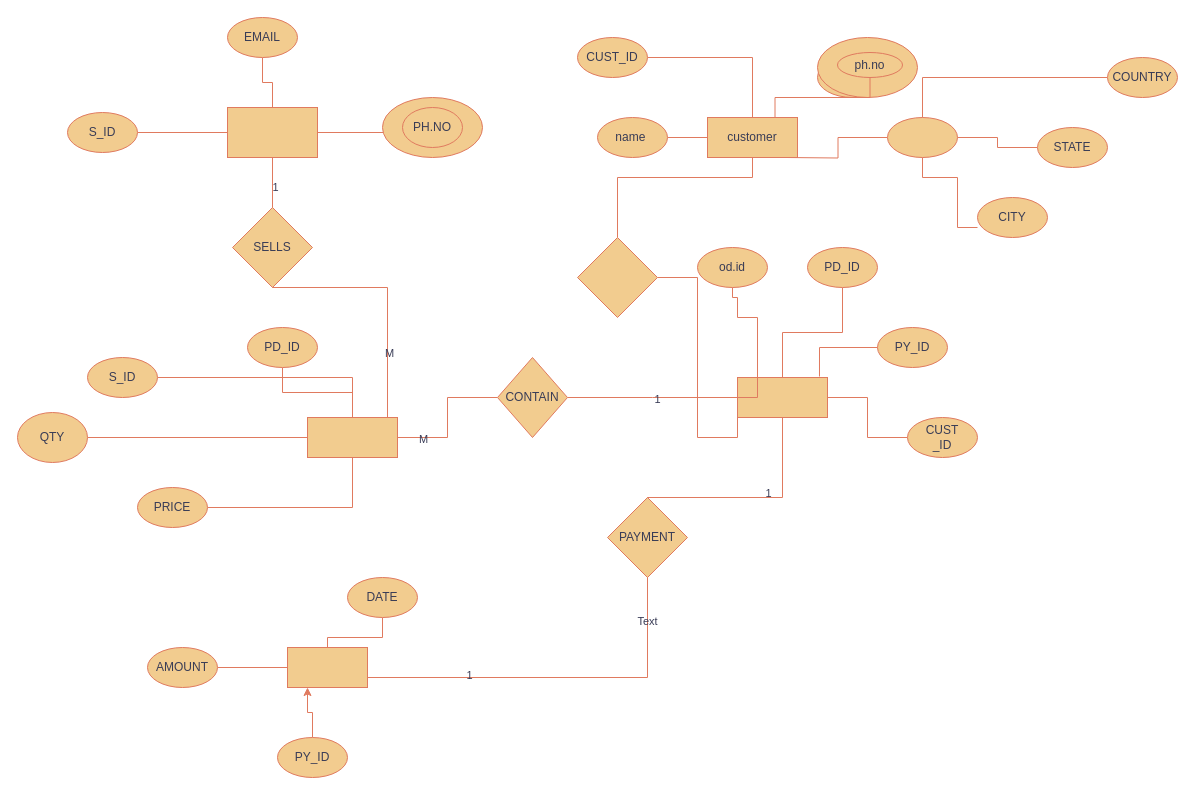
Some shapes in this 1195 by 795 pixel diagram are drawn without their labels. The centre of each missing label's shape, as x and y in pixels:
ADRESS: the point at 922,137
MAKES: the point at 617,277
orders: the point at 782,397
payments: the point at 327,667
products: the point at 352,437
sellers: the point at 272,132
